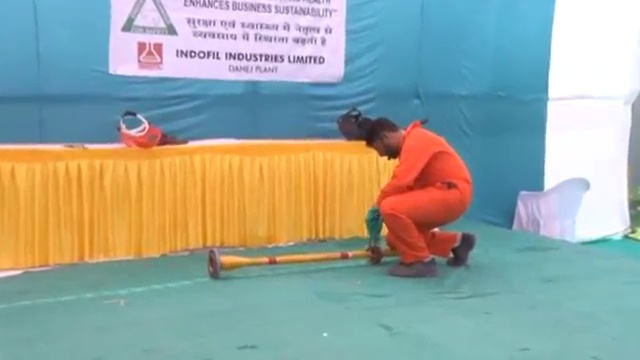helmet_off: (364, 117, 405, 162)
person: (358, 115, 483, 277)
